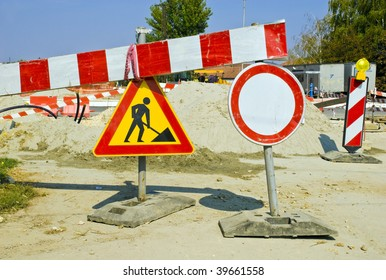caution: (93, 78, 194, 155)
